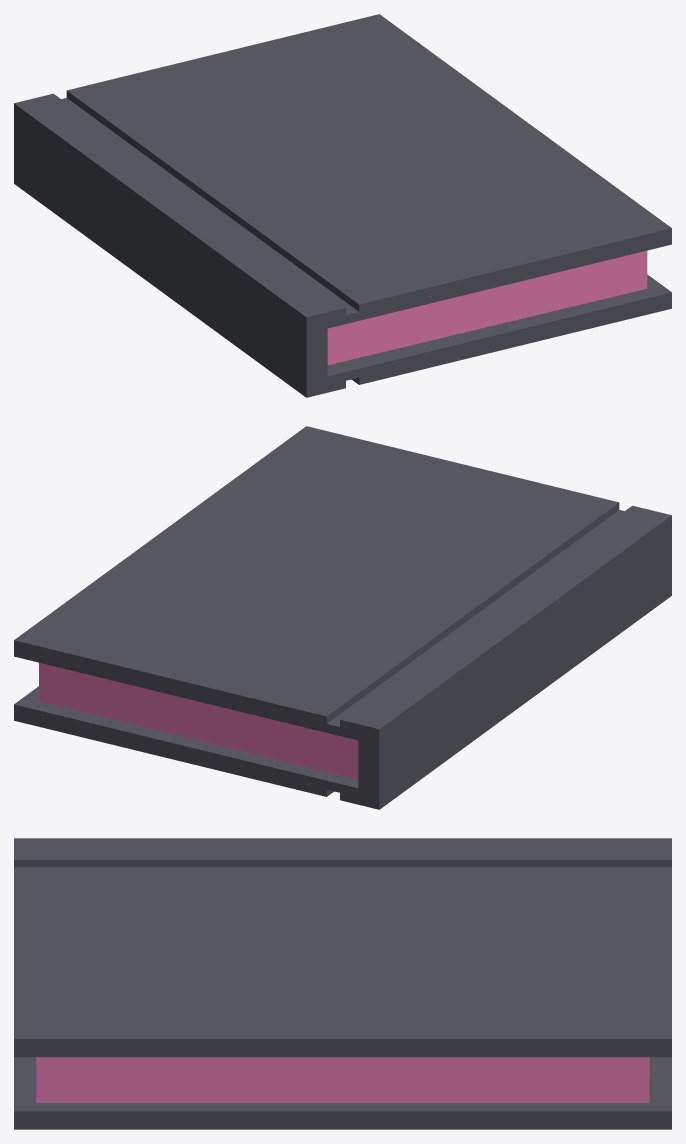
File: Book_01.fbx
3 views of the same model, one above another, from view 1: azimuth 30°, elevation 25°; view 2: azimuth 150°, elevation 25°; view 3: azimuth 270°, elevation 25° (orthographic). The views are drawn at different scales.
Parts seen in each view (by area): view 1: Book_01; view 2: Book_01; view 3: Book_01.
Part boxes in pixels (box(x1,y1,x2,y2)): Book_01: box(14, 14, 671, 397); Book_01: box(14, 426, 671, 809); Book_01: box(14, 838, 671, 1129).
Size of the model in its own units: 20.45 by 4.3 by 28.35.
